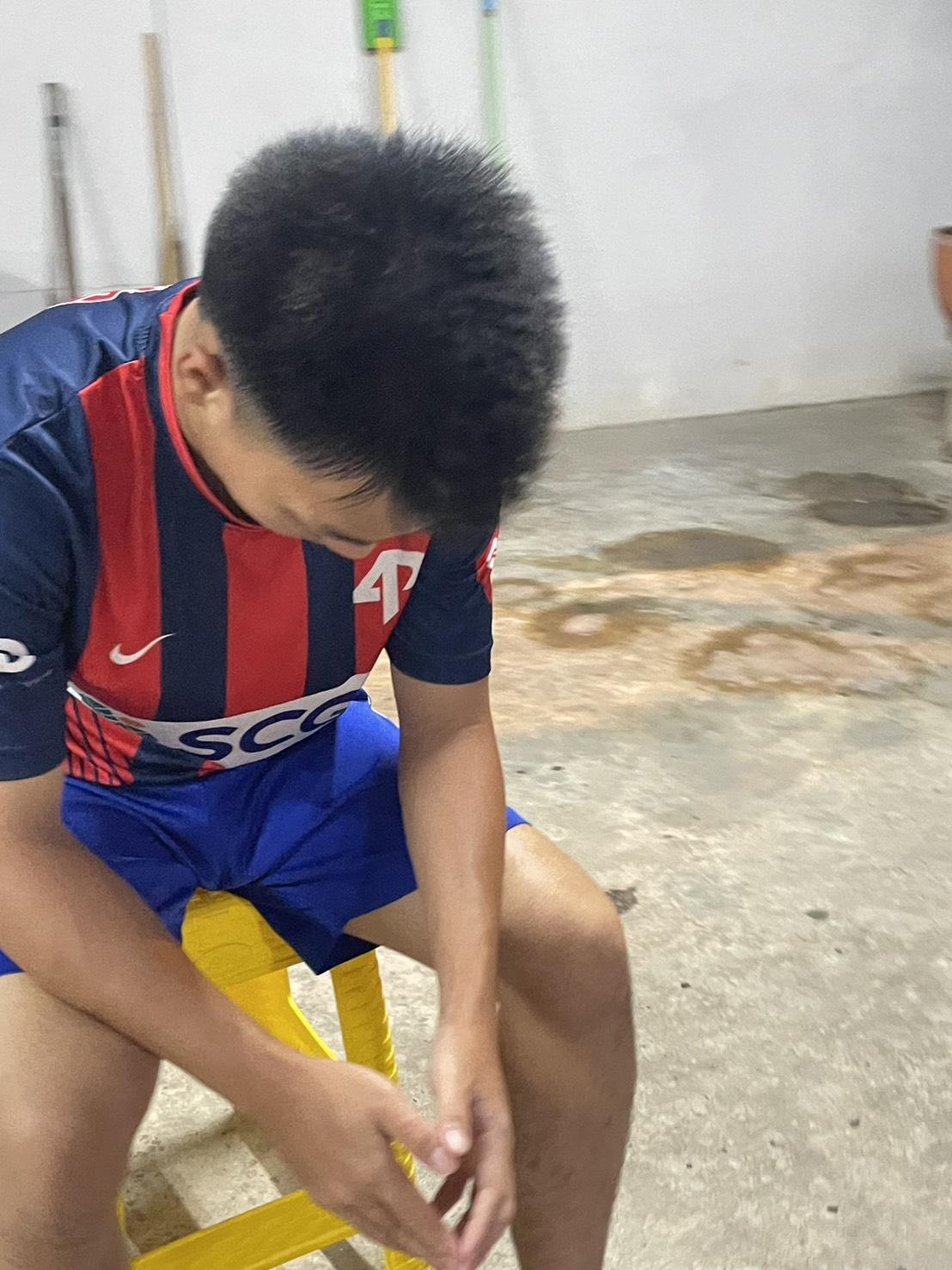BadPosture: (0, 131, 635, 1269)
